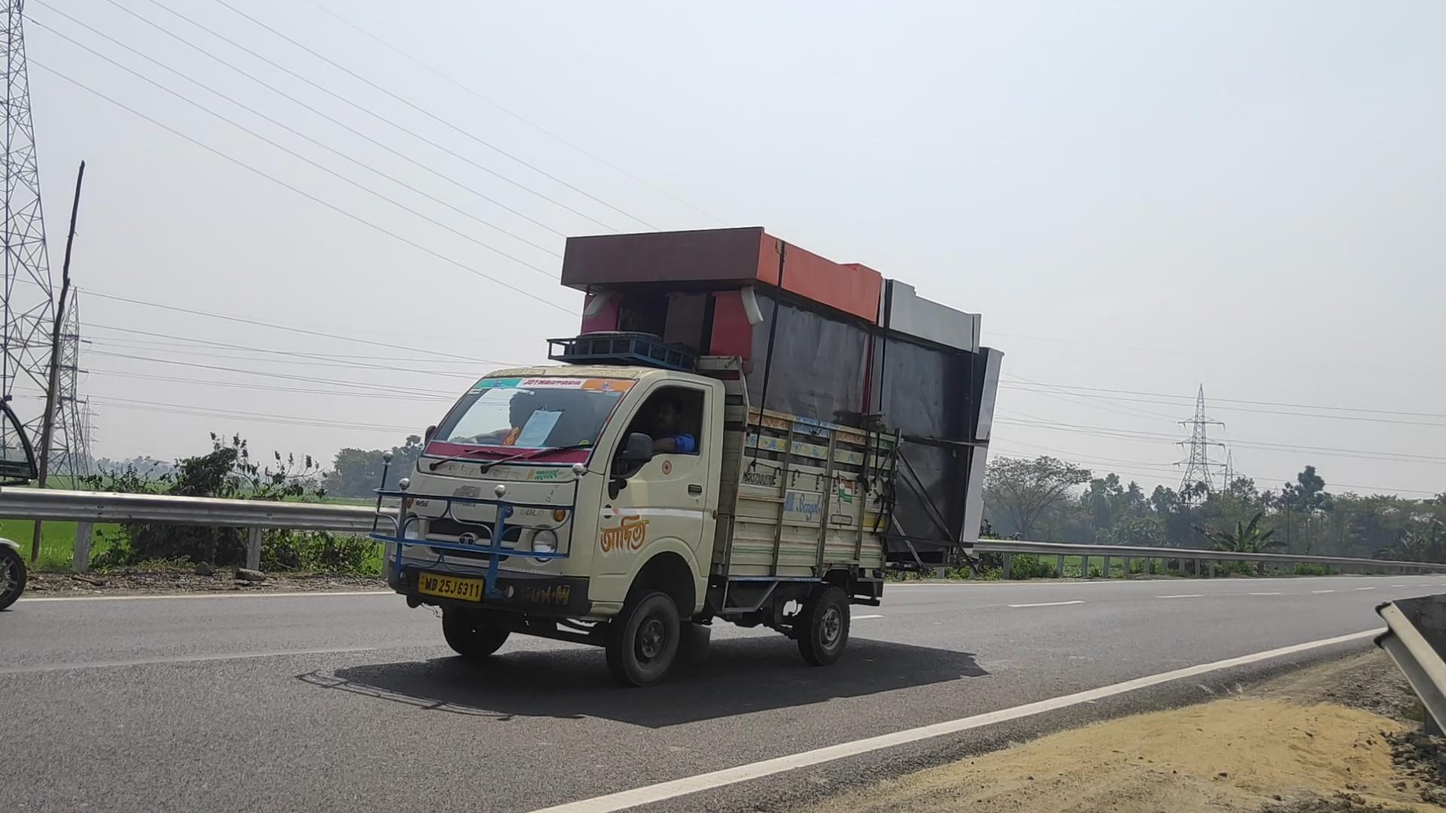van: (371, 226, 1005, 687)
